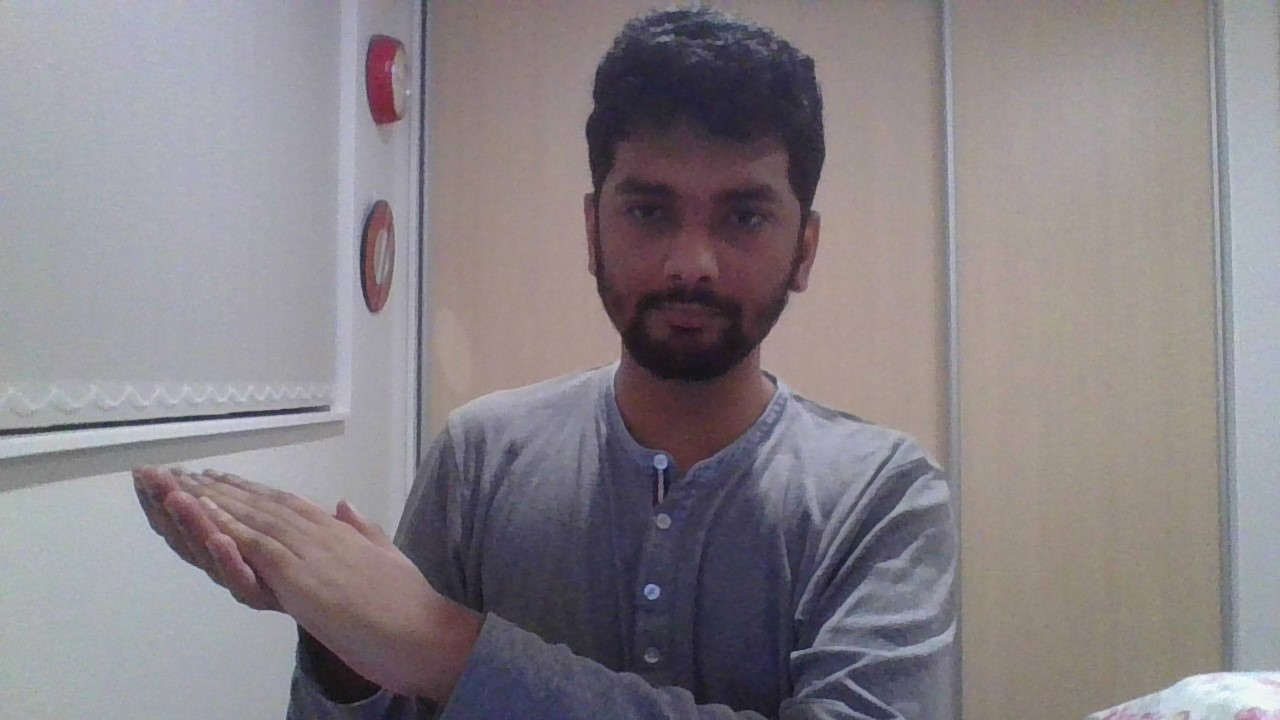clear: (131, 463, 442, 698)
